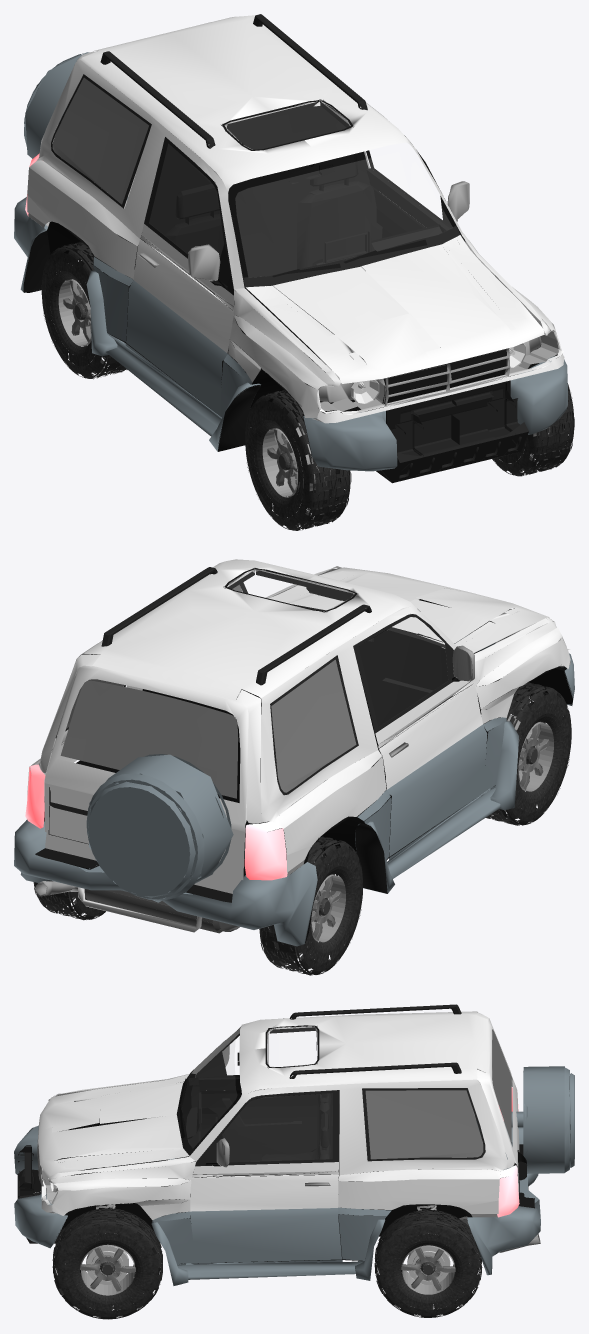
The model's file is mitsubishi-pajero-1998-4x4-335c73.glb.
3 views of the same model, one above another, from view 1: azimuth 30°, elevation 25°; view 2: azimuth 150°, elevation 25°; view 3: azimuth 270°, elevation 25° (orthographic). The views are drawn at different scales.
Visible parts, largest first — view 1: body; view 2: body; view 3: body.
Part boxes in pixels (bbox=[...]): body: bbox=[14, 14, 574, 530]; body: bbox=[14, 559, 574, 975]; body: bbox=[14, 1004, 574, 1319].
Size of the model in its own units: 2.25 by 2.22 by 4.8.
Materials: 19 (1 with a texture image).
